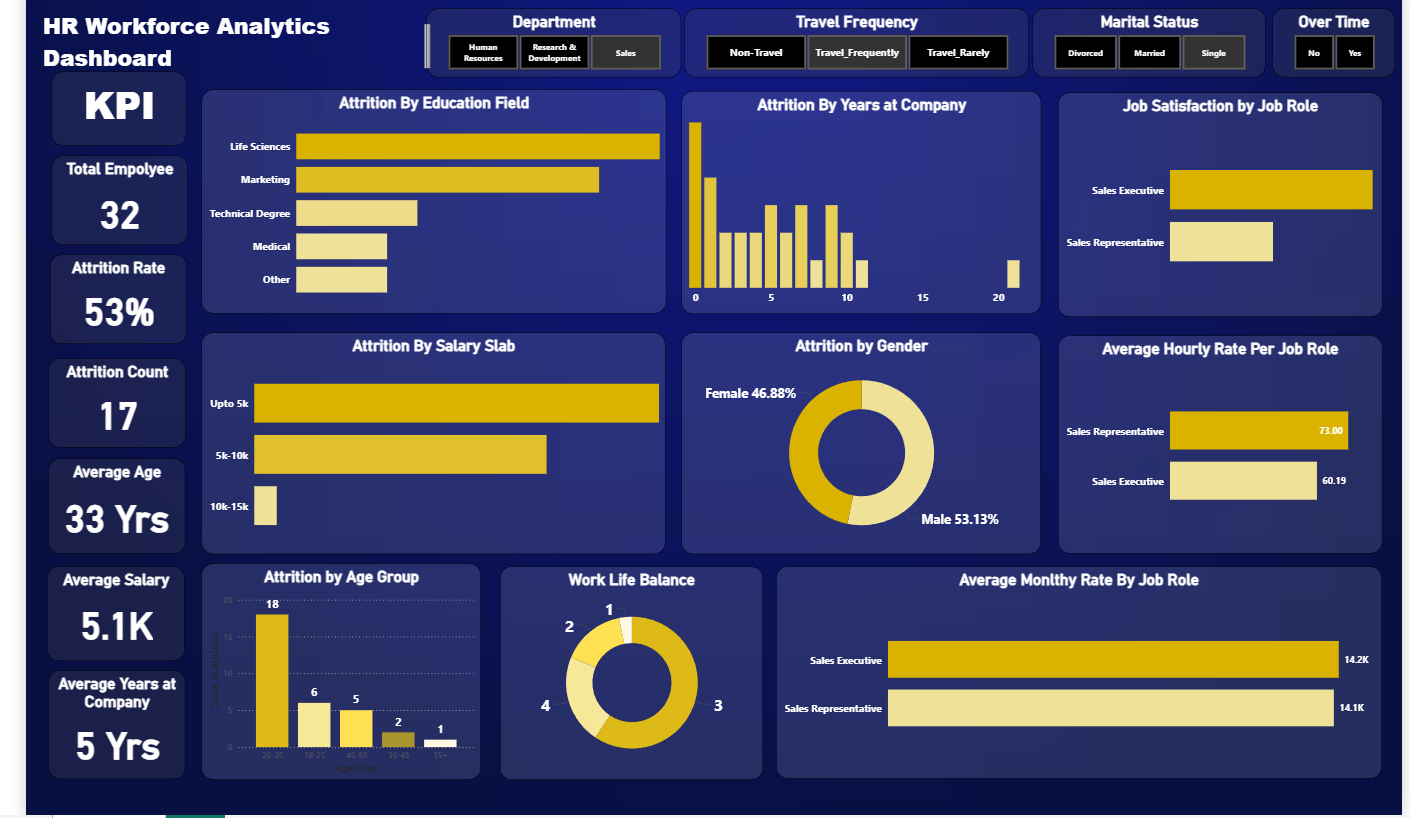

The page's visual inventory and layout, read from the dashboard file:
{"tool":"powerbi","page":{"name":"Page 1","canvas":[2000,1200],"ordinal":0},"visuals":[{"type":"card","title":"Total Empolyee","fields":{"Values":["HR_Analytics.Total Employee Count"]},"box":[36,242,198,130],"z":0},{"type":"cardVisual","title":"Attrition Rate","fields":{"Data":["HR_Analytics.Attrition Rate"]},"box":[34.3,385.1,198.3,130],"z":1000},{"type":"textbox","box":[20,36,572,86],"z":2000},{"type":"cardVisual","title":"Attrition Count","fields":{"Data":["HR_Analytics.Attrition Count"]},"box":[33.5,535.5,199,130],"z":3000},{"type":"cardVisual","title":"Average Age","fields":{"Data":["HR_Analytics.Avg_Age"]},"box":[33.3,682.5,198.3,138.3],"z":4000},{"type":"cardVisual","title":"Average Salary","fields":{"Data":["HR_Analytics.Avg_Salary"]},"box":[31.3,839.4,200,137.5],"z":5000},{"type":"cardVisual","title":"Average Years at Company","fields":{"Data":["HR_Analytics.Avg_years"]},"box":[33.4,989.7,198.8,158.8],"z":6000},{"type":"clusteredBarChart","title":"Attrition By Education Field","fields":{"Category":["HR_Analytics.EducationField"],"Y":["CountNonNull(HR_Analytics.Attrition)"]},"box":[255,145,675,325],"z":7000},{"type":"clusteredBarChart","title":"Attrition By Salary Slab","fields":{"Category":["HR_Analytics.SalarySlab"],"Y":["CountNonNull(HR_Analytics.Attrition)"]},"box":[256,498,674,322],"z":8000},{"type":"textbox","box":[36,120,196,108],"z":9000},{"type":"clusteredColumnChart","title":"Attrition by Age Group","fields":{"Category":["HR_Analytics.AgeGroup"],"Y":["CountNonNull(HR_Analytics.Attrition)"]},"box":[256,834,406,314],"z":10000},{"type":"clusteredColumnChart","title":"Attrition By Years at Company","fields":{"Category":["HR_Analytics.YearsAtCompany"],"Y":["CountNonNull(HR_Analytics.Attrition)"]},"box":[952.9,147.1,522.9,324.3],"z":11000},{"type":"donutChart","title":"Attrition by Gender","fields":{"Category":["HR_Analytics.Gender"],"Y":["CountNonNull(HR_Analytics.Attrition)"]},"box":[952,498,522,322],"z":12000},{"type":"clusteredBarChart","title":"Job Satisfaction by Job Role","fields":{"Category":["HR_Analytics.JobRole"],"Y":["Sum(HR_Analytics.JobSatisfaction)"]},"box":[1500,151.4,471.4,325.7],"z":13000},{"type":"slicer","title":"Department","fields":{"Values":["HR_Analytics.Department"]},"box":[581.7,28.3,370,100],"z":14000},{"type":"slicer","title":"Travel Frequency","fields":{"Values":["HR_Analytics.BusinessTravel"]},"box":[956.7,28.3,500,100],"z":15000},{"type":"slicer","title":"Marital Status","fields":{"Values":["HR_Analytics.MaritalStatus"]},"box":[1461.2,28.8,338.8,100],"z":16000},{"type":"slicer","title":"Over Time","fields":{"Values":["HR_Analytics.OverTime"]},"box":[1810,29,178,100],"z":17000},{"type":"barChart","title":"Average Hourly Rate Per Job Role","fields":{"Category":["HR_Analytics.JobRole"],"Y":["Avg(HR_Analytics.HourlyRate)"]},"box":[1498.9,504.4,471.1,316.7],"z":18000},{"type":"donutChart","title":"Work Life Balance","fields":{"Category":["HR_Analytics.WorkLifeBalance"],"Y":["HR_Analytics.Total Employee Count"]},"box":[688,838,382,310],"z":19000},{"type":"clusteredBarChart","title":"Average Monlthy Rate By Job Role","fields":{"Category":["HR_Analytics.JobRole"],"Y":["Avg(HR_Analytics.MonthlyRate)"]},"box":[1090,840,880,308],"z":20000}]}

Visuals, with their boxes on the page's 2000x1200 design canvas (x1, y1, x2, y2). These are canvas units, not pixel positions in the 1410x818 screenshot, which may show the page scaled, cropped or inside an application window:
"Total Empolyee" card: 36:242:234:372
"Attrition Rate" cardVisual: 34:385:233:515
textbox: 20:36:592:122
"Attrition Count" cardVisual: 34:536:232:666
"Average Age" cardVisual: 33:682:232:821
"Average Salary" cardVisual: 31:839:231:977
"Average Years at Company" cardVisual: 33:990:232:1148
"Attrition By Education Field" clusteredBarChart: 255:145:930:470
"Attrition By Salary Slab" clusteredBarChart: 256:498:930:820
textbox: 36:120:232:228
"Attrition by Age Group" clusteredColumnChart: 256:834:662:1148
"Attrition By Years at Company" clusteredColumnChart: 953:147:1476:471
"Attrition by Gender" donutChart: 952:498:1474:820
"Job Satisfaction by Job Role" clusteredBarChart: 1500:151:1971:477
"Department" slicer: 582:28:952:128
"Travel Frequency" slicer: 957:28:1457:128
"Marital Status" slicer: 1461:29:1800:129
"Over Time" slicer: 1810:29:1988:129
"Average Hourly Rate Per Job Role" barChart: 1499:504:1970:821
"Work Life Balance" donutChart: 688:838:1070:1148
"Average Monlthy Rate By Job Role" clusteredBarChart: 1090:840:1970:1148
